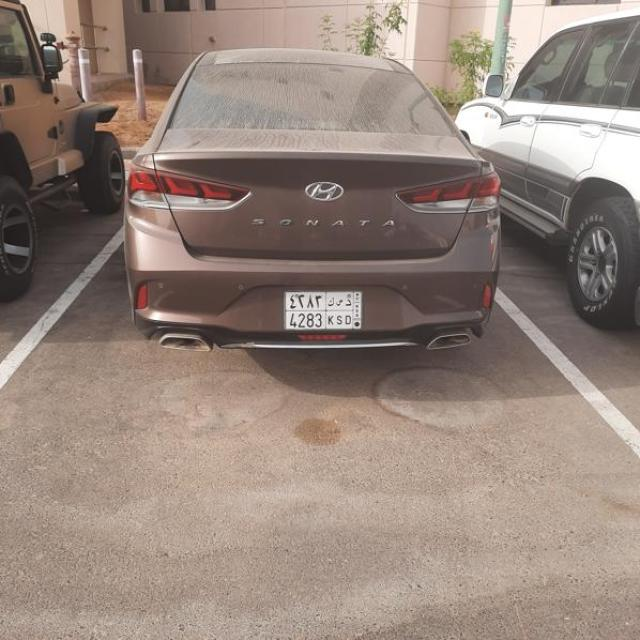license_plate: (285, 291, 365, 331)
